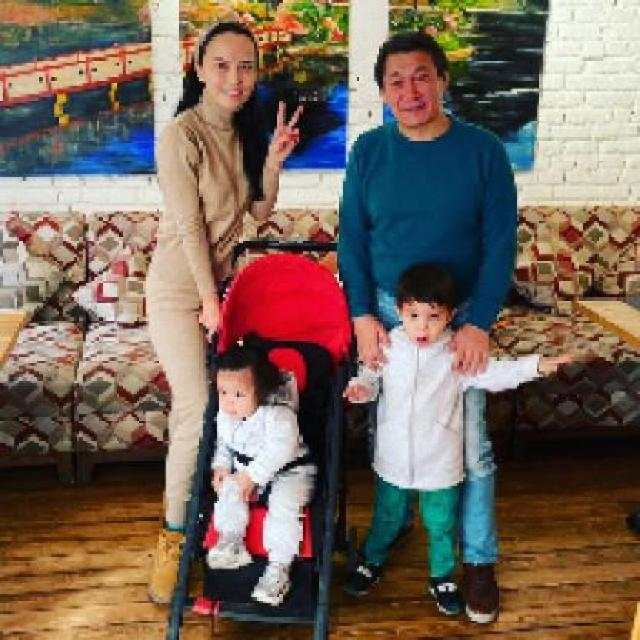child: (340, 262, 577, 618), (206, 331, 317, 606)
